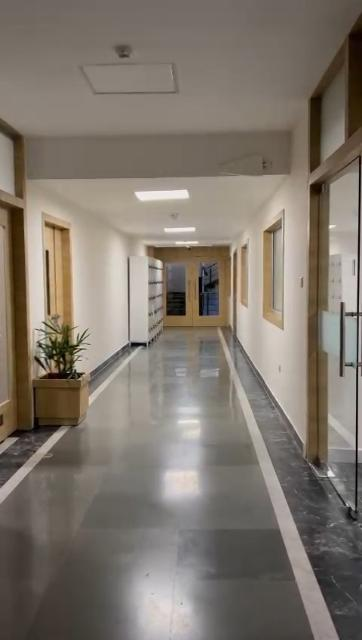door: (318, 166, 362, 494), (0, 119, 28, 441), (164, 246, 230, 326), (42, 222, 72, 326)
floor: (0, 325, 362, 640)
object: (37, 328, 95, 426)
wall: (80, 220, 130, 346), (283, 182, 307, 408), (248, 223, 264, 345)
